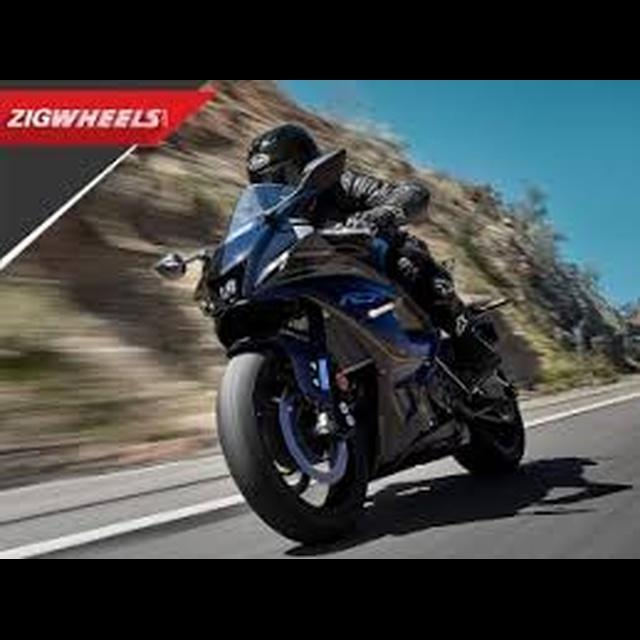motorcycle: (147, 149, 528, 548)
